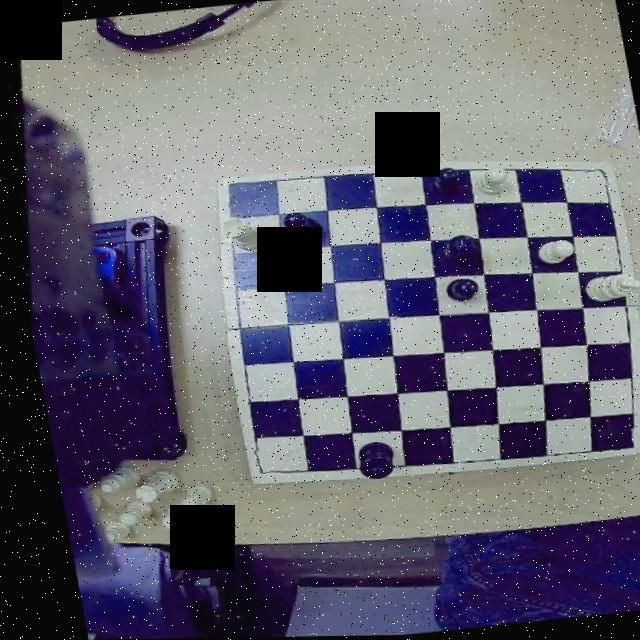chess-table-corners: (237, 447, 276, 482), (213, 175, 249, 209), (600, 426, 636, 459), (579, 160, 614, 190)
